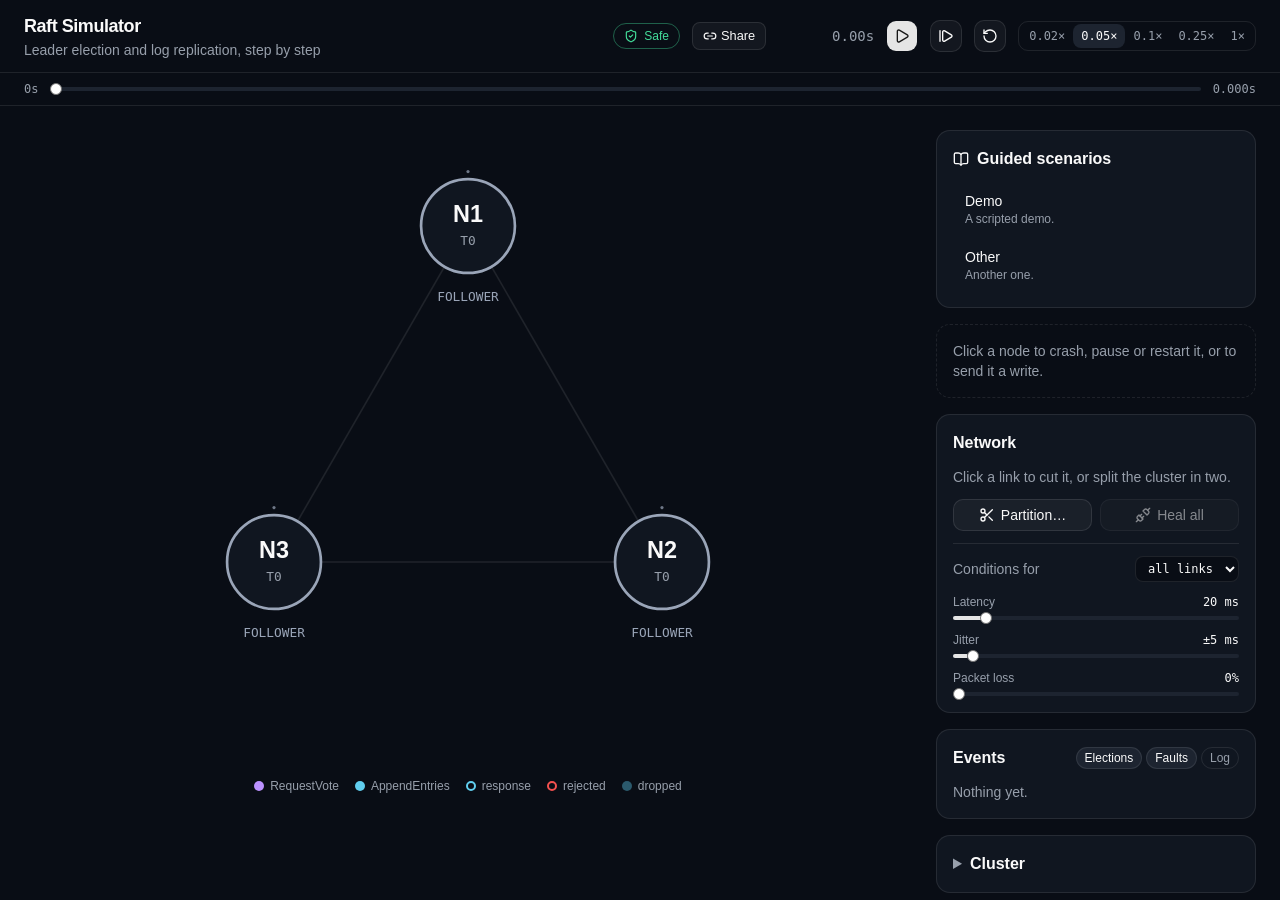
Test: play toggles to pause, and step advances the clock
Click the button named "Step 10ms". click: (946, 36)
box: [930,20,962,52]
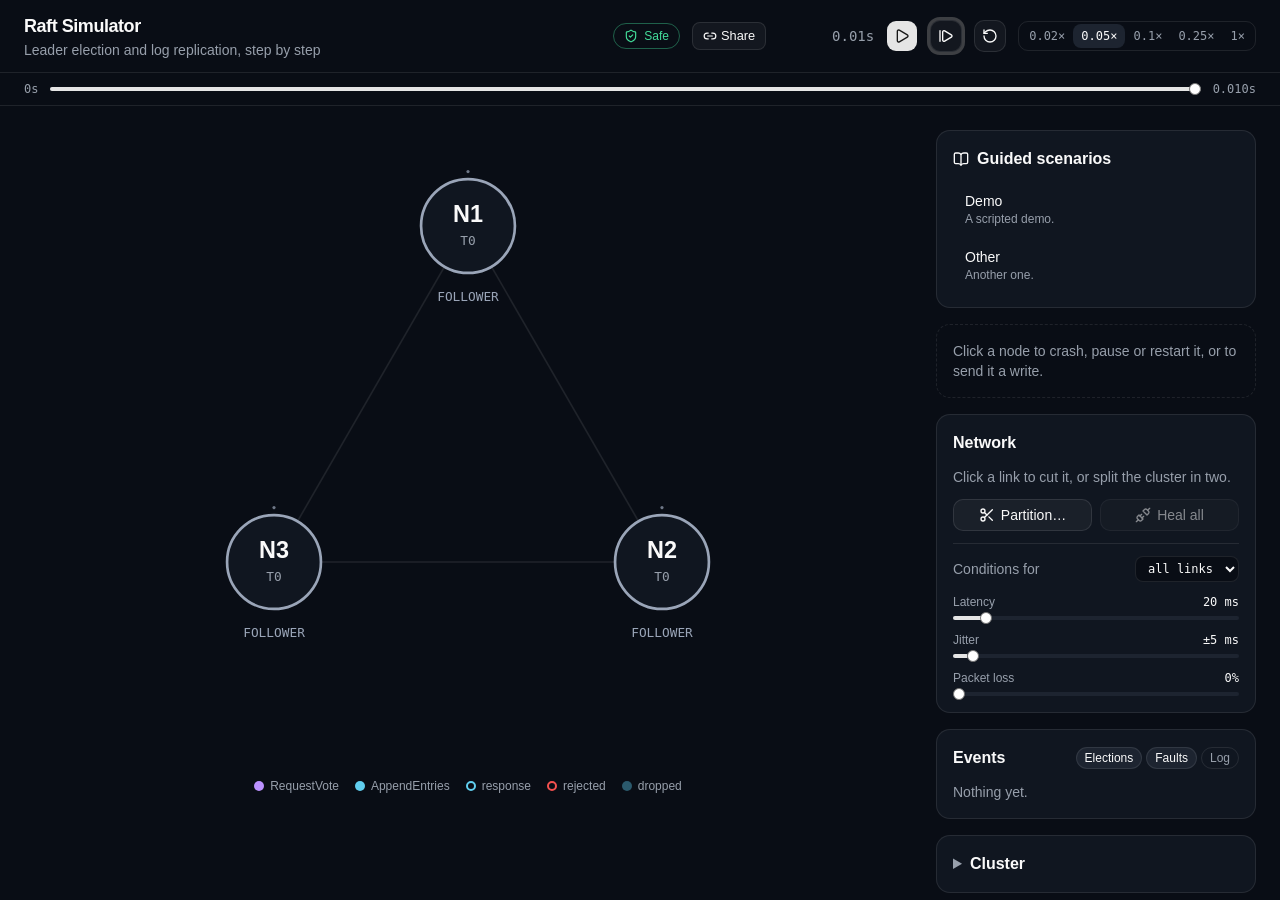
expect the text named "Simulated time" reads "0.01s": met, box [832,28,874,44]
Click the button named "Play". click: (902, 36)
box: [886,20,918,52]
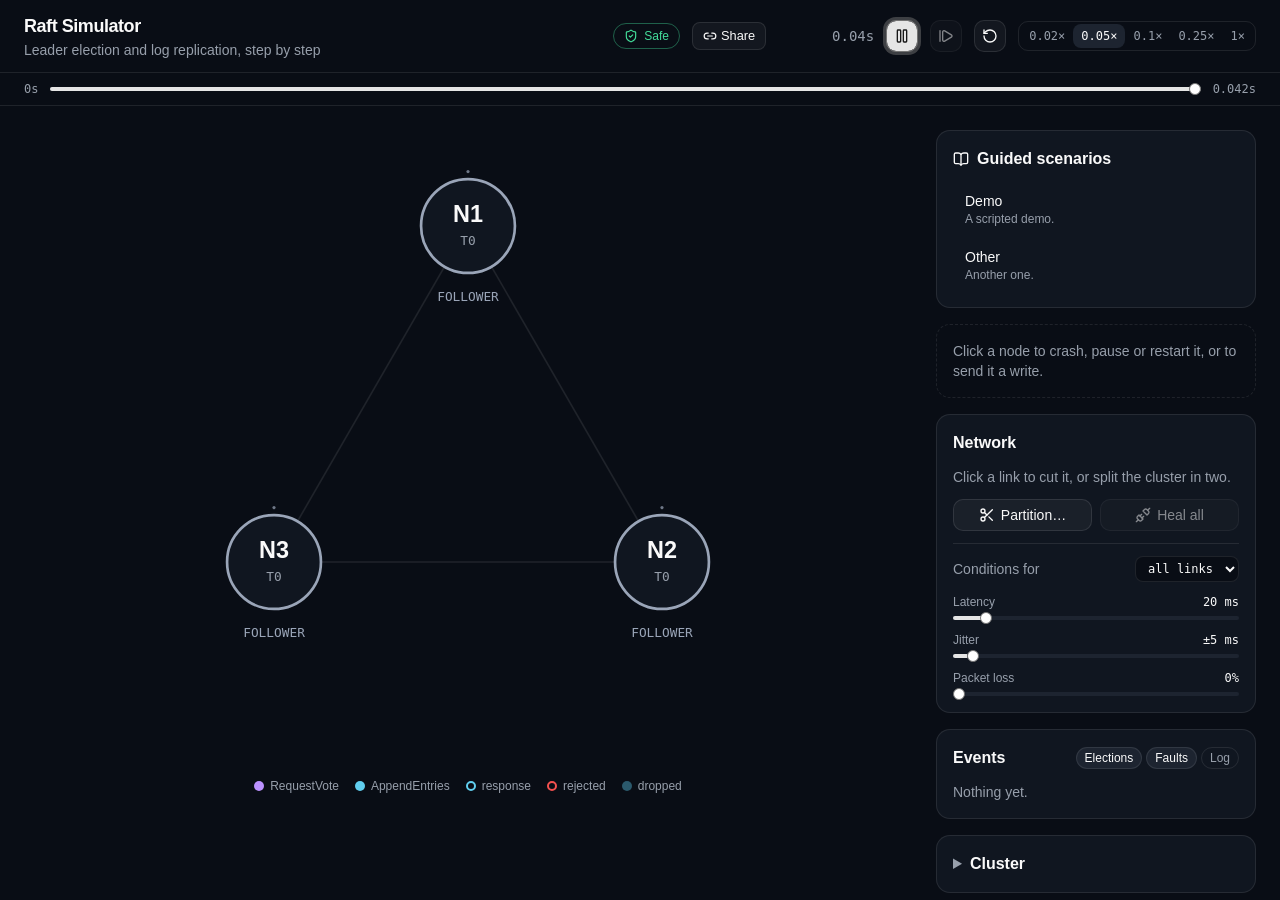
expect the button named "Pause" is shown: met, box [886,20,918,52]
expect the button named "Step 10ms" is disabled: met, box [930,20,962,52]
